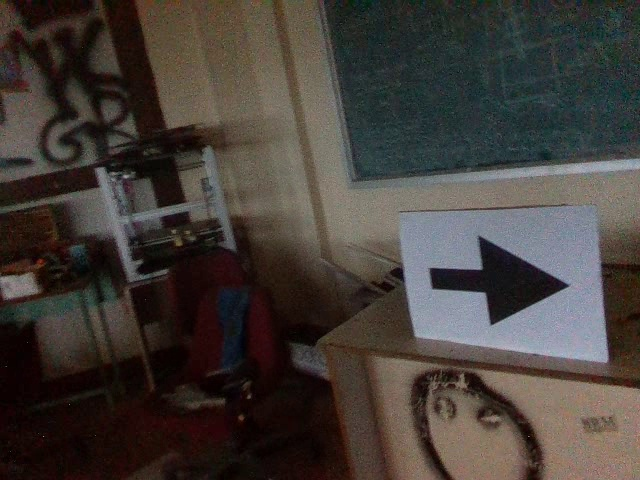Right: (420, 229, 574, 323)
